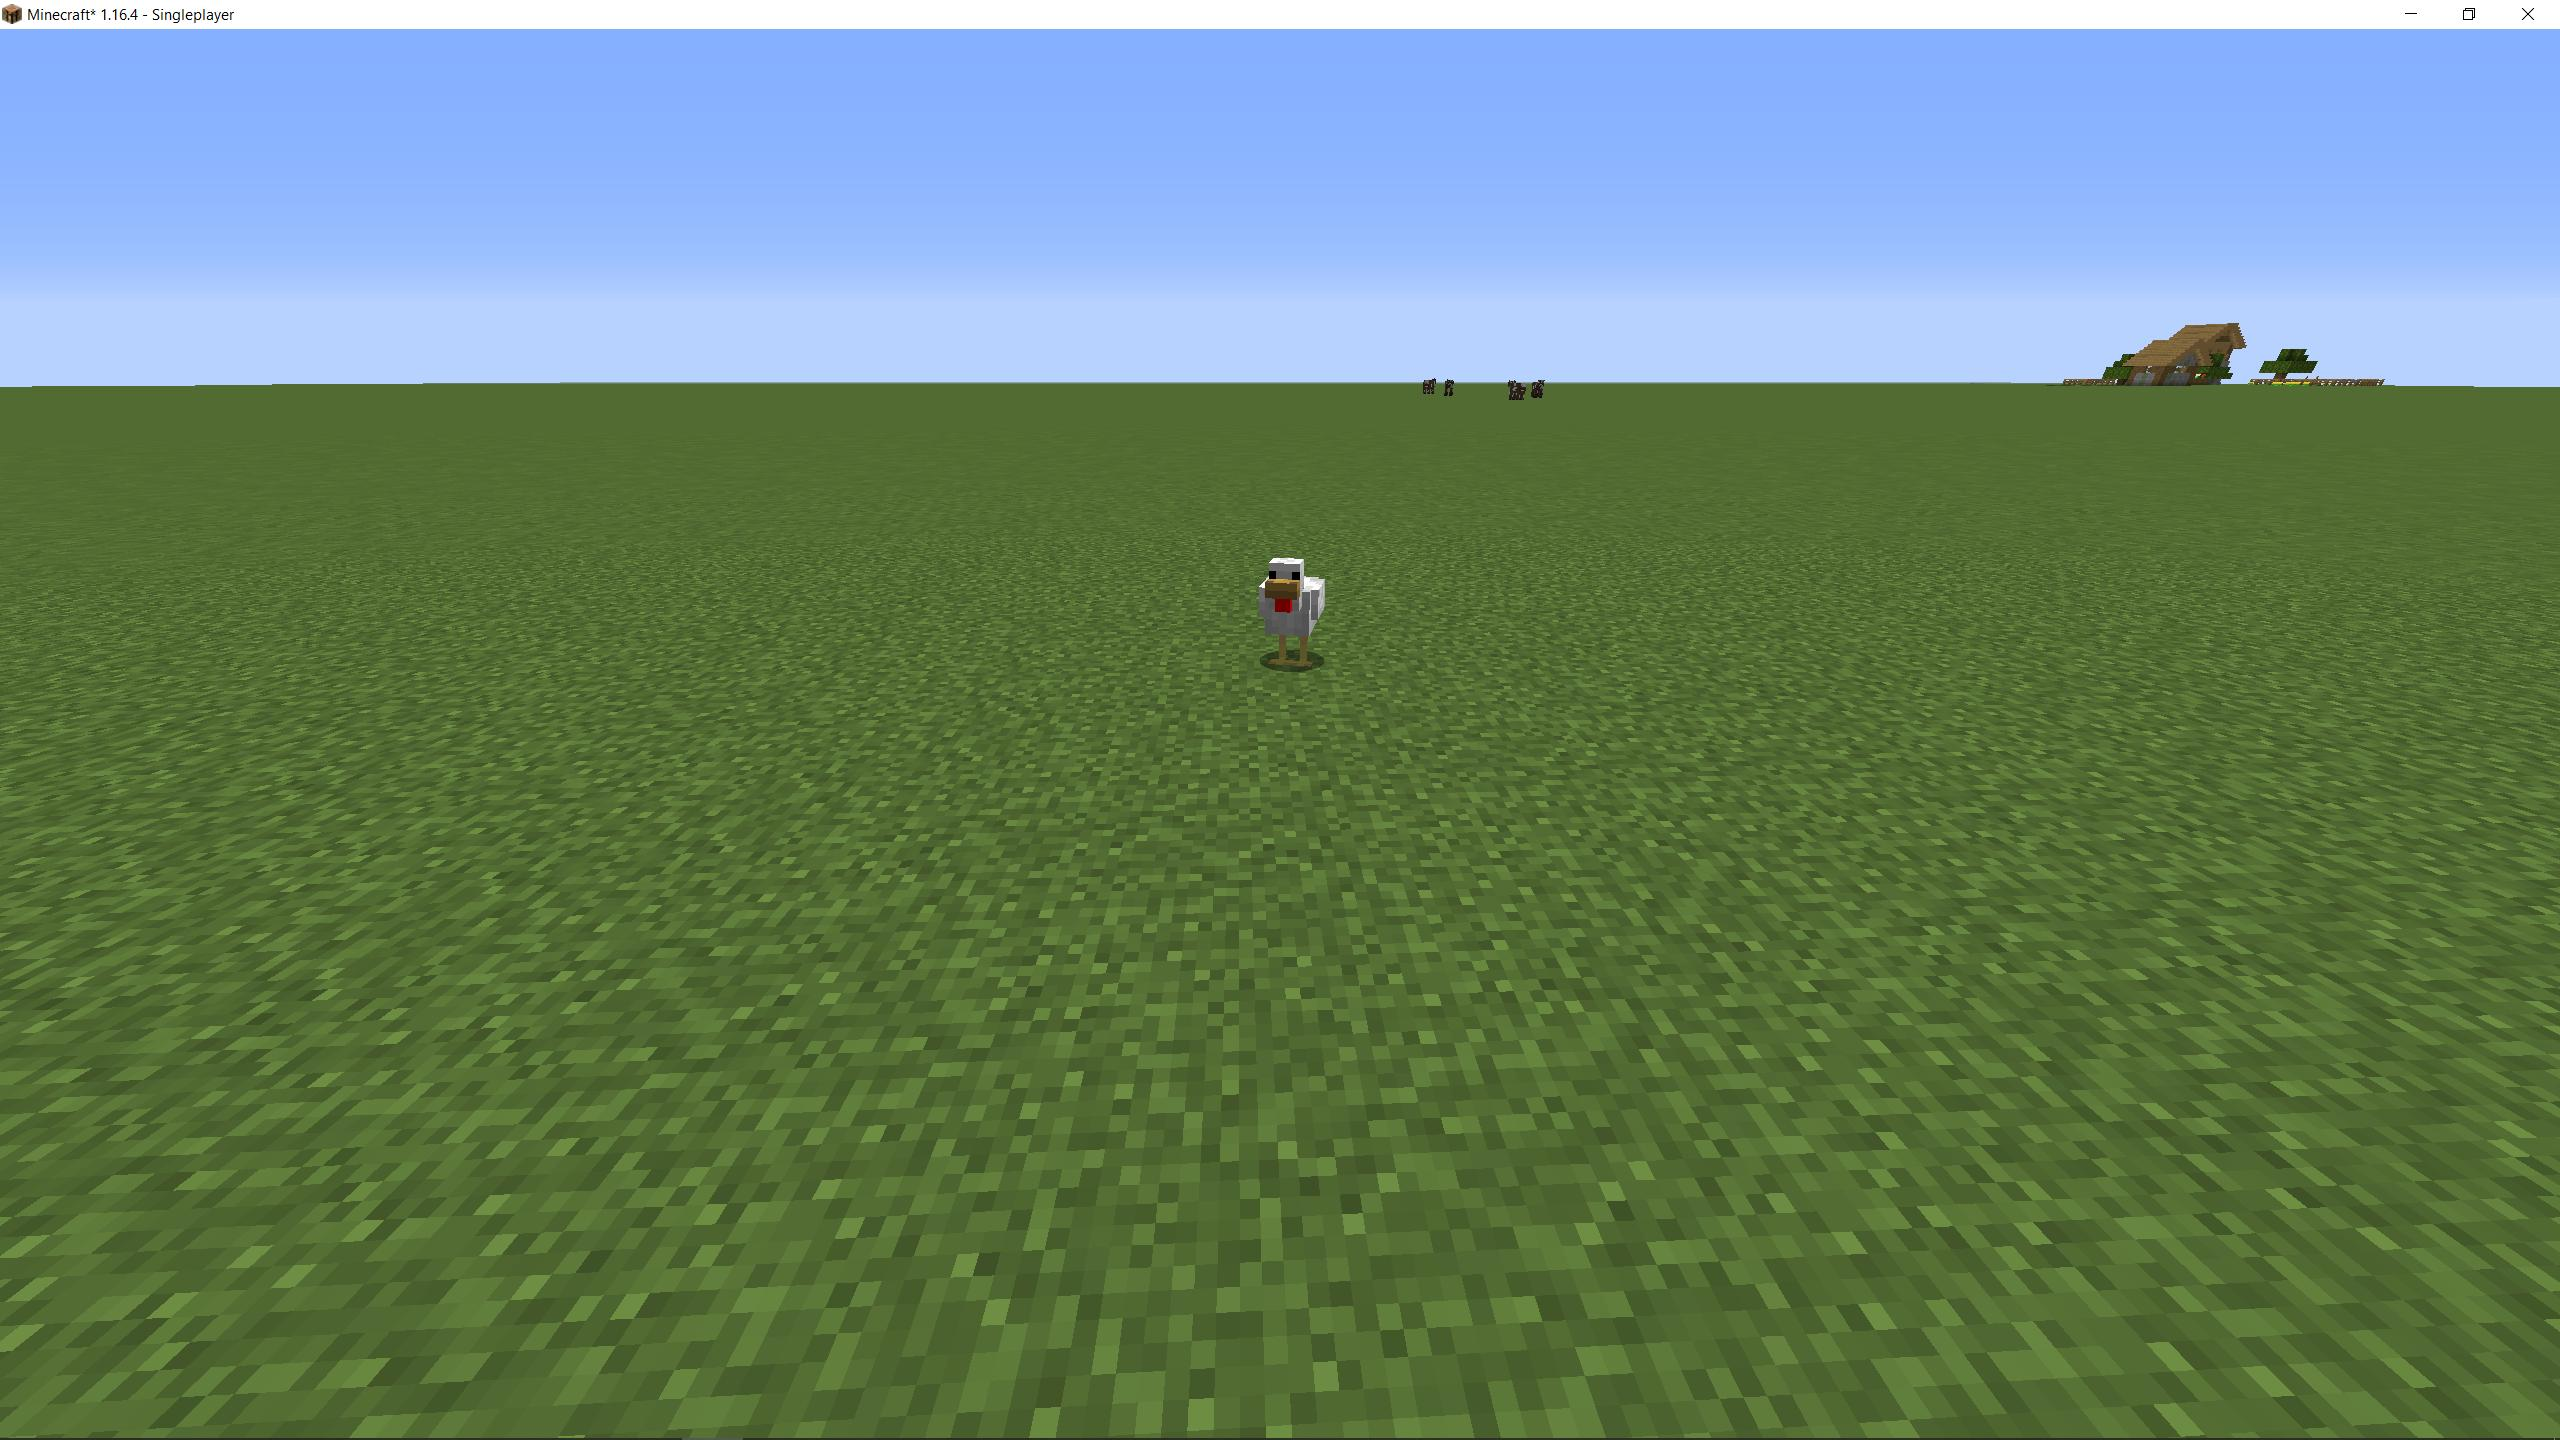chicken: (1250, 552, 1335, 675)
